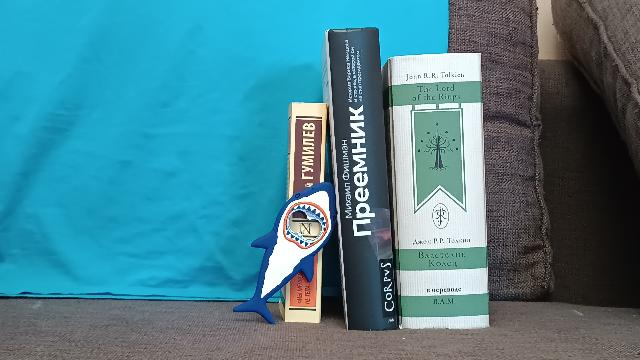book-s-spine: (392, 53, 490, 330), (328, 28, 398, 331), (284, 103, 326, 324)
